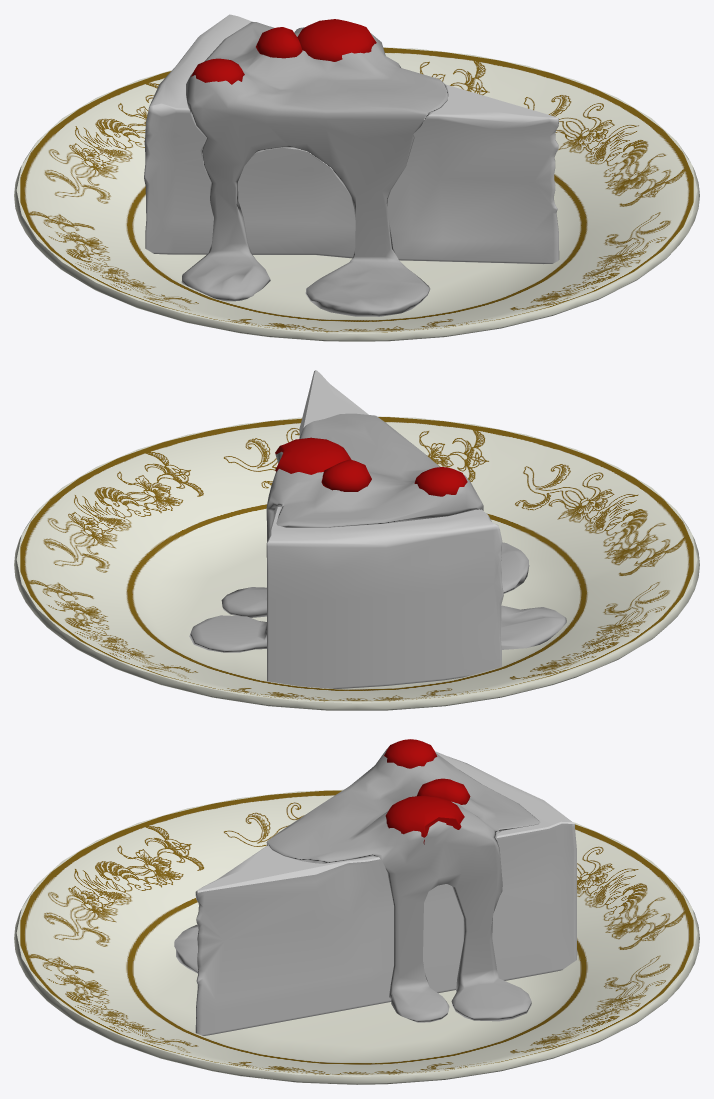
File: Cake_Redcuce.FBX
3 views of the same model, one above another, from view 1: azimuth 30°, elevation 25°; view 2: azimuth 150°, elevation 25°; view 3: azimuth 270°, elevation 25° (orthographic).
Visible parts, largest first — view 1: archmodels76_006_07, archmodels76_006_06, archmodels76_006_01, archmodels76_006_02; view 2: archmodels76_006_07, archmodels76_006_06, archmodels76_006_01, archmodels76_006_02; view 3: archmodels76_006_07, archmodels76_006_06, archmodels76_006_01, archmodels76_006_02.
Boxes of the visible parts, left/top/right/bottom form: archmodels76_006_07: left=14, top=47, right=699, bottom=341; archmodels76_006_06: left=144, top=14, right=559, bottom=264; archmodels76_006_01: left=181, top=22, right=448, bottom=316; archmodels76_006_02: left=191, top=19, right=376, bottom=84; archmodels76_006_07: left=14, top=416, right=699, bottom=710; archmodels76_006_06: left=266, top=370, right=503, bottom=688; archmodels76_006_01: left=189, top=413, right=566, bottom=652; archmodels76_006_02: left=275, top=437, right=467, bottom=496; archmodels76_006_07: left=14, top=789, right=699, bottom=1084; archmodels76_006_06: left=195, top=751, right=576, bottom=1035; archmodels76_006_01: left=174, top=747, right=540, bottom=1022; archmodels76_006_02: left=384, top=739, right=470, bottom=844.
Bounding box in the file's own units: 18.1 × 5.57 × 18.1.
